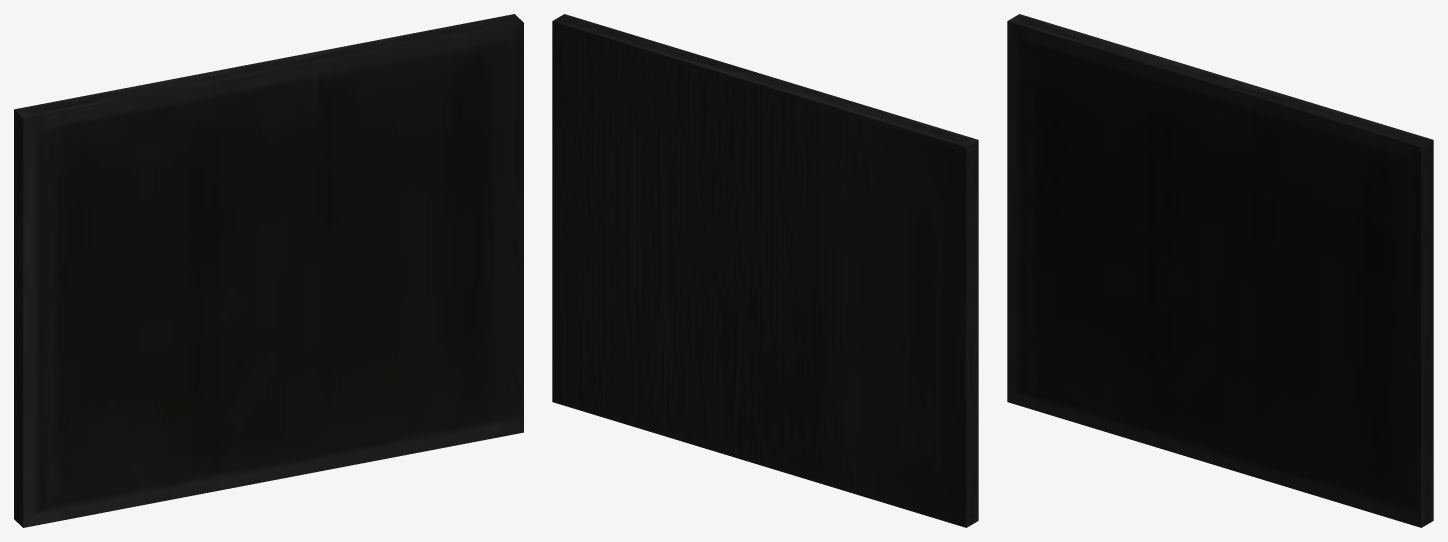
The model's file is seat__seat_board.glb.
3 views of the same model, side by side, from view 1: azimuth 30°, elevation 25°; view 2: azimuth 150°, elevation 25°; view 3: azimuth 330°, elevation 25° (orthographic). The views are drawn at different scales.
Visible parts, largest first — view 1: world; view 2: world; view 3: world.
Boxes of the visible parts, <box> form: world: <box>14,14,523,527</box>; world: <box>552,14,978,527</box>; world: <box>1007,14,1433,527</box>.
Size of the model in its own units: 0.3397 by 0.28 by 0.0479.
1 material, 1 textured.
